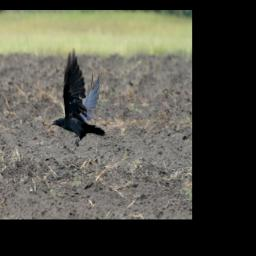Crow: (50, 47, 106, 148)
